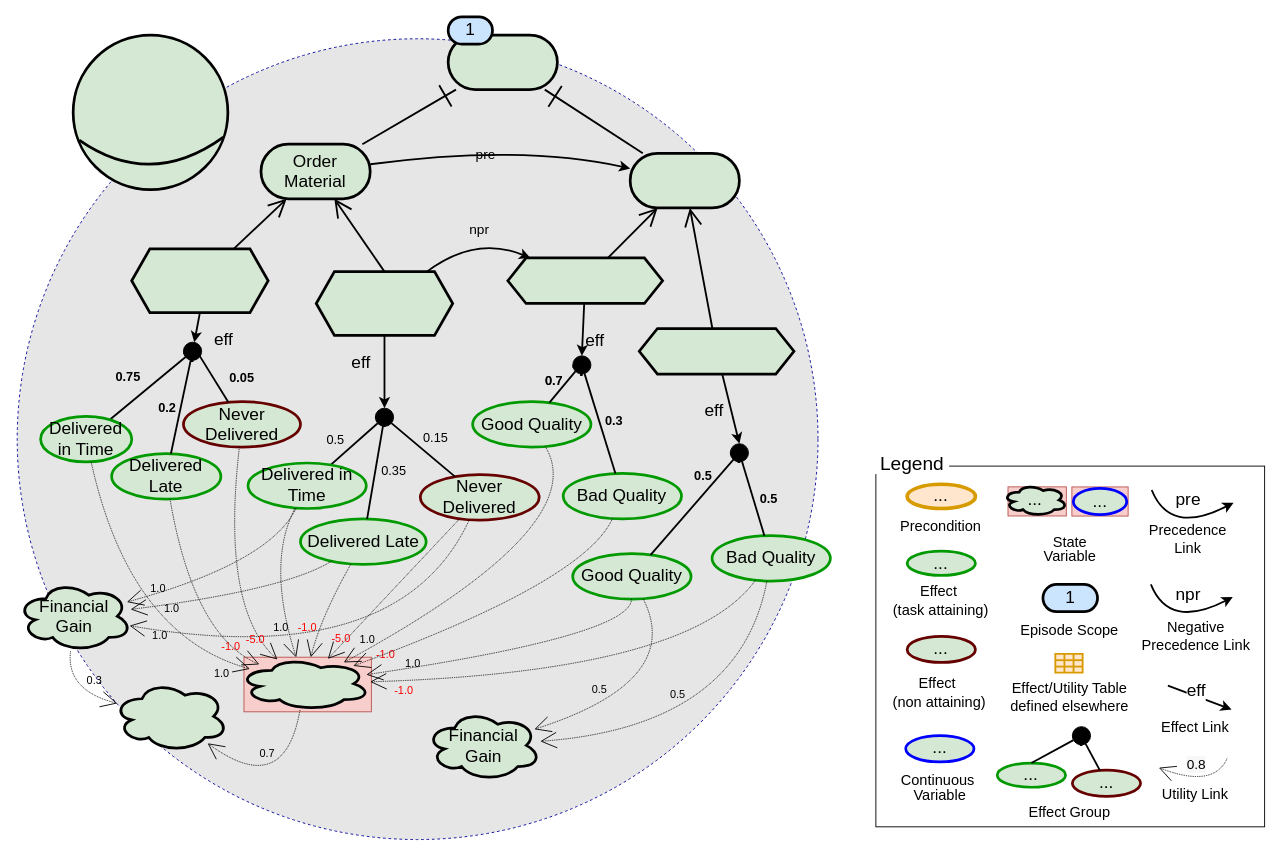
This 1280x856 diagram has some shape labels left out. The shapes that lost their labels are listed below. From the top down, each one's centre as x and y in pixels, then its label:
(x=502, y=62): Build Roof
(x=150, y=112): Contractor
(x=684, y=180): Assign Work
(x=199, y=280): Order from Supplier A
(x=584, y=280): Assign to Subcontractor A
(x=384, y=303): Order from Supplier B
(x=716, y=351): Assign to Subcontractor B
(x=304, y=683): Reputation
(x=170, y=715): Total Value
